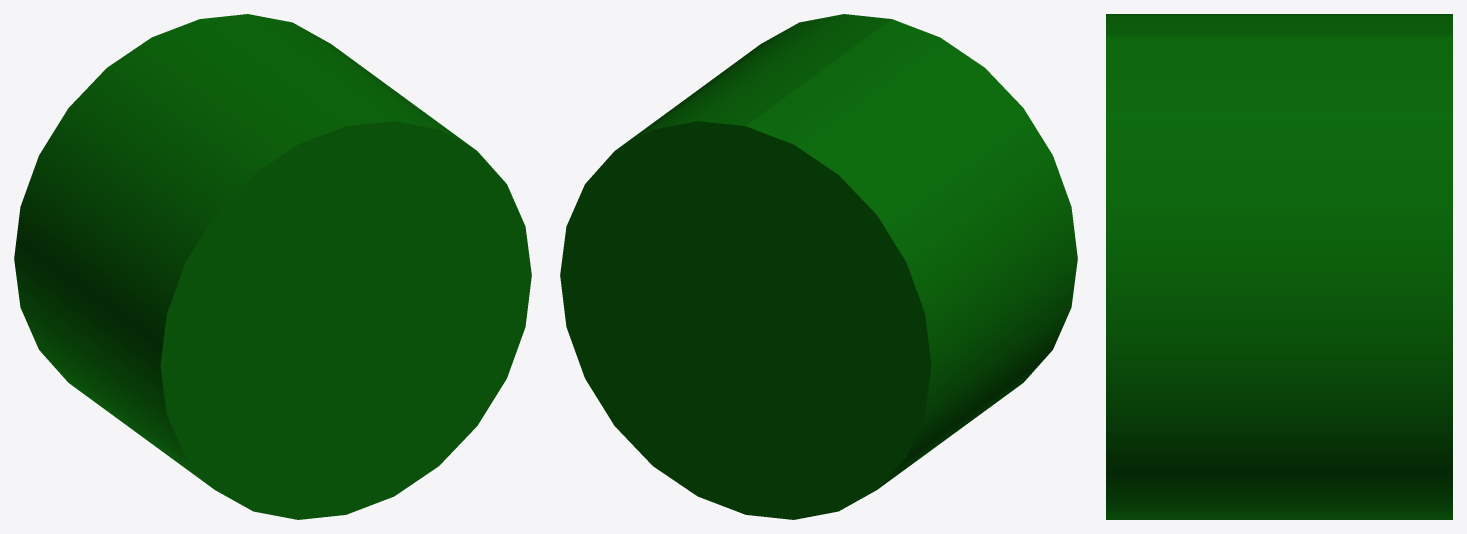
3 views of the same model, side by side, from view 1: azimuth 30°, elevation 25°; view 2: azimuth 150°, elevation 25°; view 3: azimuth 270°, elevation 25° (orthographic). The views are drawn at different scales.
Parts seen in each view (by area): view 1: pow_bloc_plane-SKP--_Color_G08_; view 2: pow_bloc_plane-SKP--_Color_G08_; view 3: pow_bloc_plane-SKP--_Color_G08_.
Boxes of the visible parts, x1=… form: pow_bloc_plane-SKP--_Color_G08_: x1=14, y1=14, x2=531, y2=519; pow_bloc_plane-SKP--_Color_G08_: x1=560, y1=14, x2=1077, y2=519; pow_bloc_plane-SKP--_Color_G08_: x1=1106, y1=14, x2=1452, y2=519.
Bounding box in the file's own units: 0.1402 × 0.1402 × 0.0958.
Materials: 1 (1 with a texture image).
